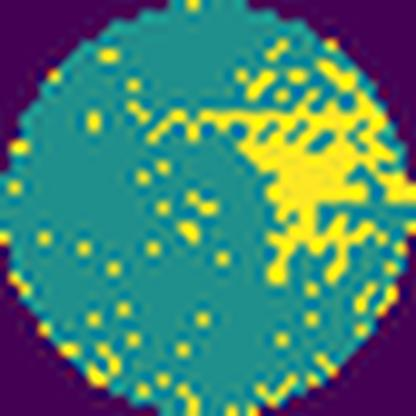Loc: (146, 60, 410, 288)
